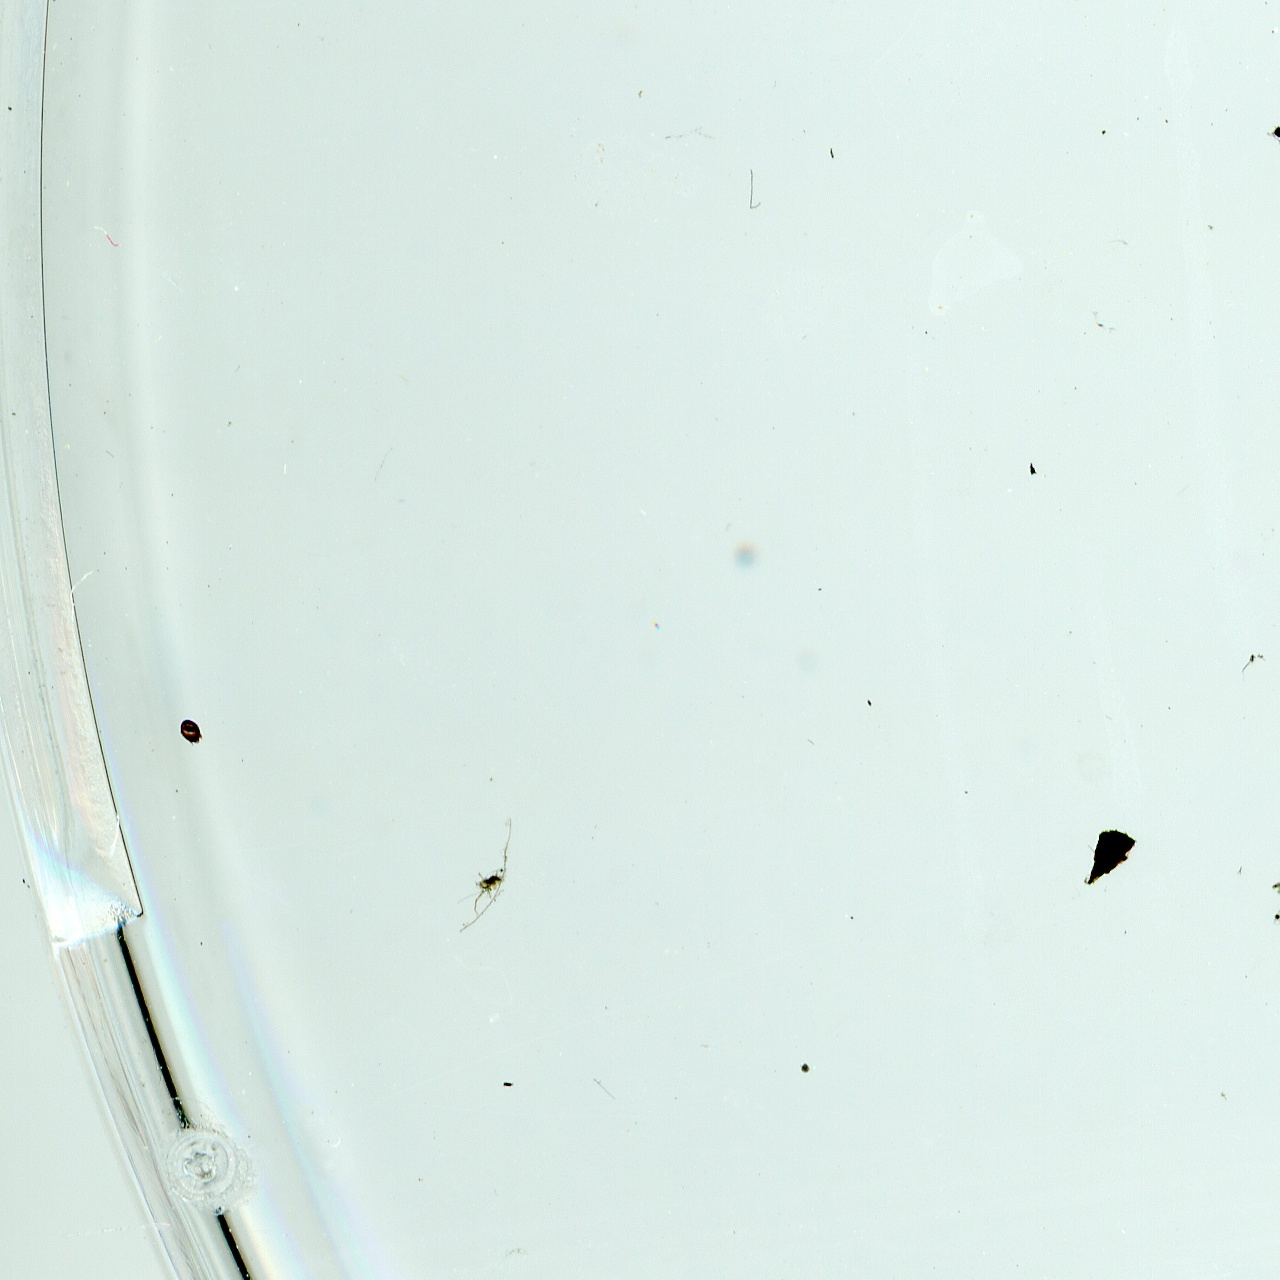arthropod: (179, 717, 204, 746)
